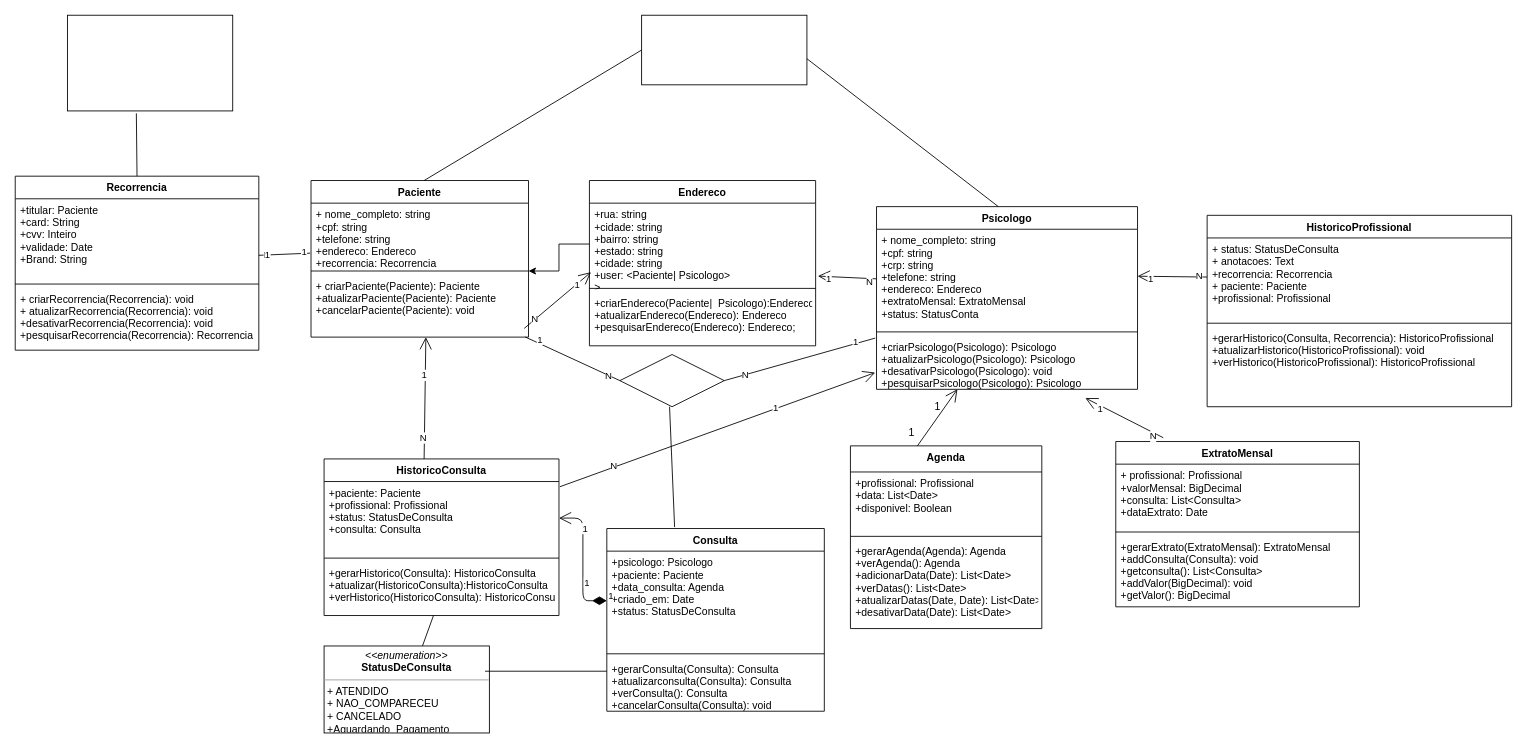
This 1527x749 diagram has some shape labels left out. Each missing label, with the centre of its shape:
<<enumeration>> Brand +MasterCard + Visa + Elo +HiperCard: the point at 150,62
<<enumeration>> StatusConta + CANCELADO + ATIVO: the point at 724,49
Possui: the point at 671,380
